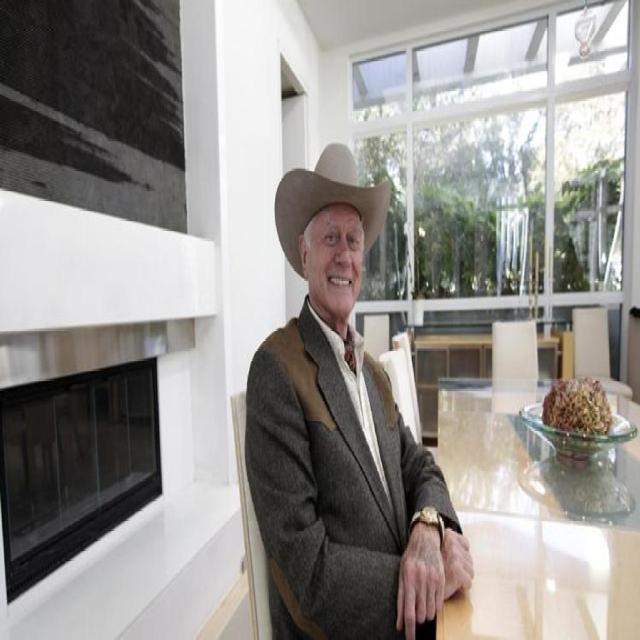Face: (309, 197, 371, 315)
